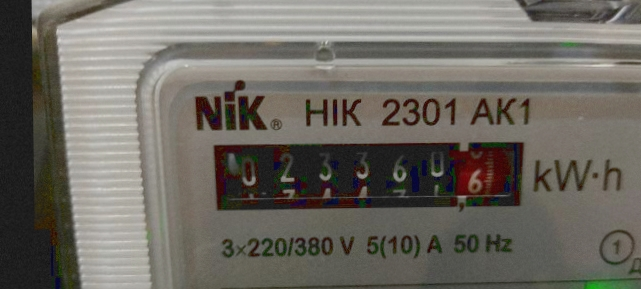0: (237, 153, 258, 186), (428, 147, 445, 178)
2: (275, 150, 298, 184)
3: (313, 149, 334, 181), (352, 148, 371, 179)
6: (388, 150, 408, 182), (463, 164, 484, 193)
screen: (194, 122, 538, 225)
